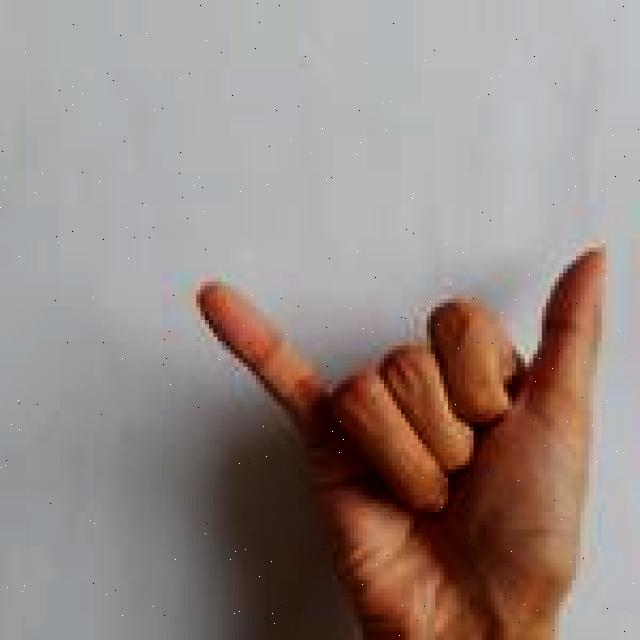Y: (190, 232, 617, 640)
